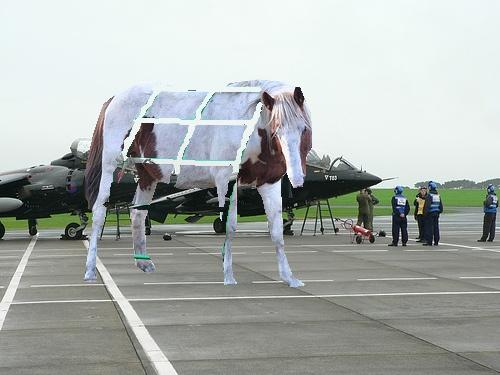tampered: (85, 80, 312, 287)
